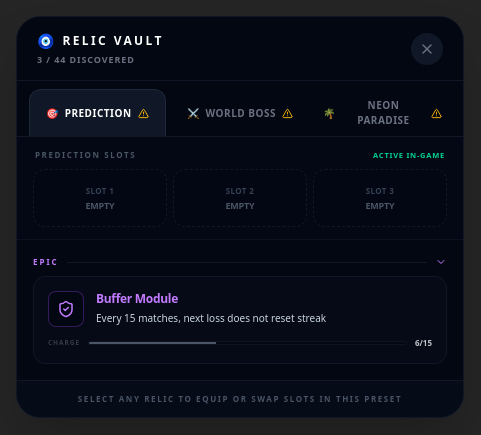
Relic System Components › RelicDrawer › filters catalog to display only relics belonging to the selected tab
The width and height of the screenshot is (481, 435).
Expected: the heading "Buffer Module" is shown, [96,290,178,307]
Expected: the text "Temporal Charge" is not shown
Click the text "World Boss" at (241, 113), box [206,106,276,121]
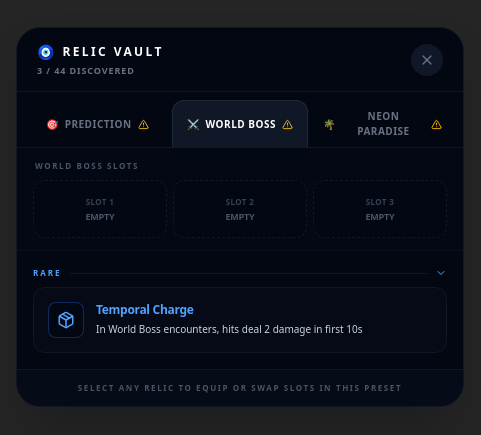
Expected: the heading "Temporal Charge" is shown, [96,301,194,318]
Expected: the heading "Buffer Module" is gone
